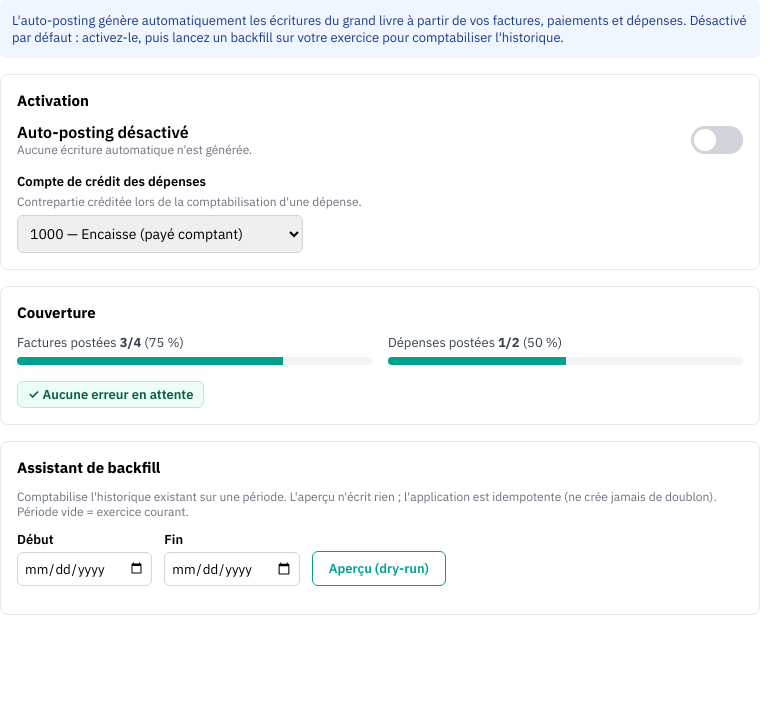
Test case: AutopostTab — assistant backfill (dry-run → apply) › aperçu avec 0 à créer → pas de bouton Confirmer, message « rien à créer »
This screenshot has width=777, height=719.
Click the button "Aperçu (dry-run)" at (379, 568), box [312, 551, 446, 586]
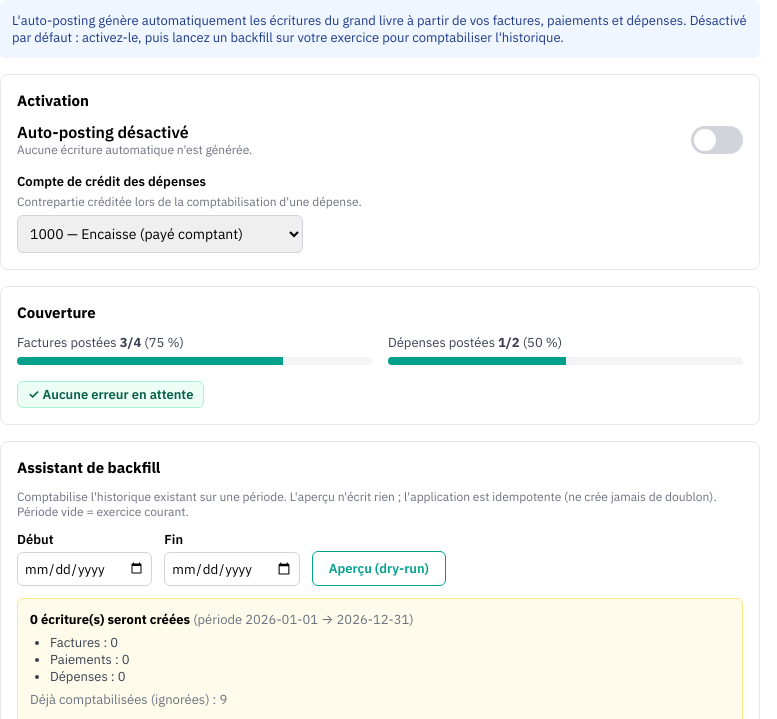
Expected: the text "0 écriture(s) seront créées" is shown, [30, 611, 414, 628]
